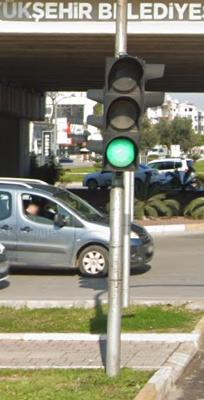greenlight: (102, 52, 142, 174)
